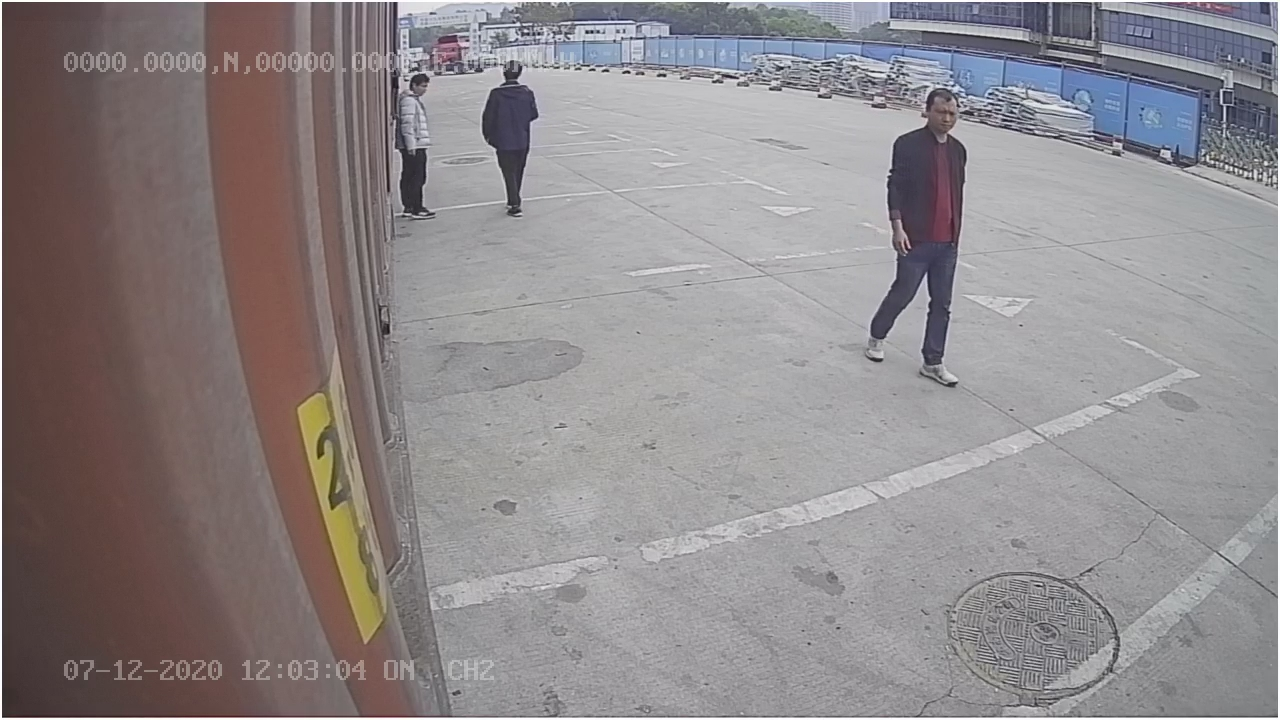person: (865, 84, 972, 386)
